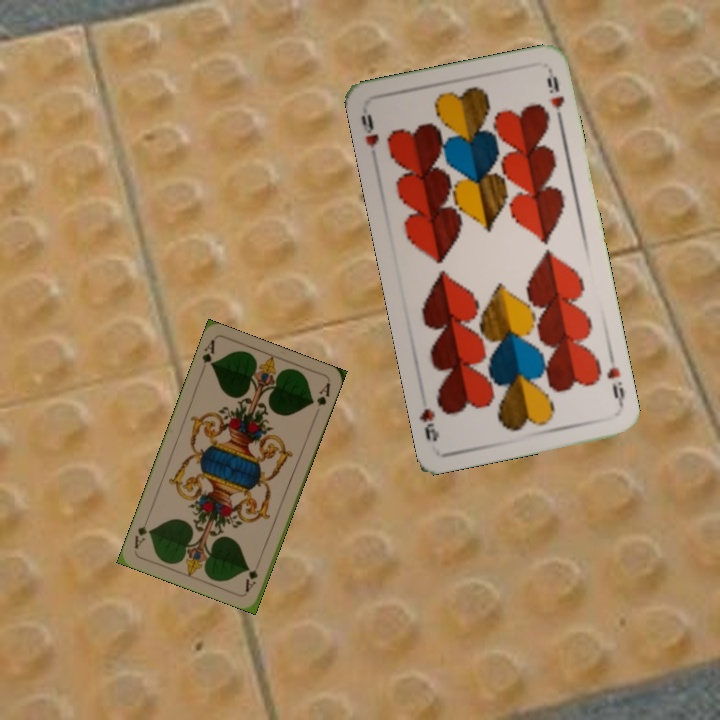GA: (197, 336, 217, 376), (241, 565, 260, 594)
H9: (603, 351, 627, 410), (357, 110, 382, 151)
